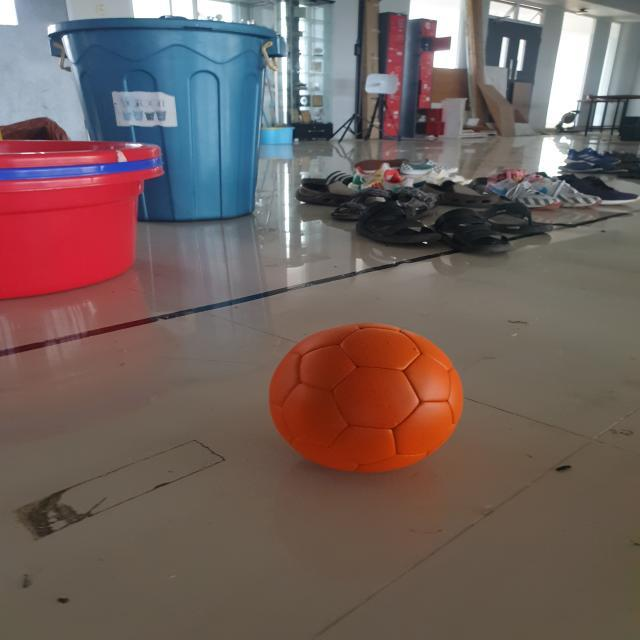bola: (256, 318, 471, 478)
